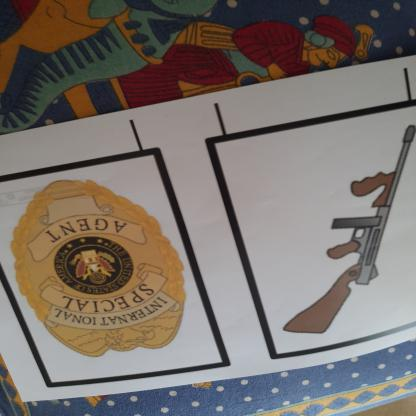Bootlegger: (272, 110, 416, 346)
G-man: (1, 174, 199, 363)
